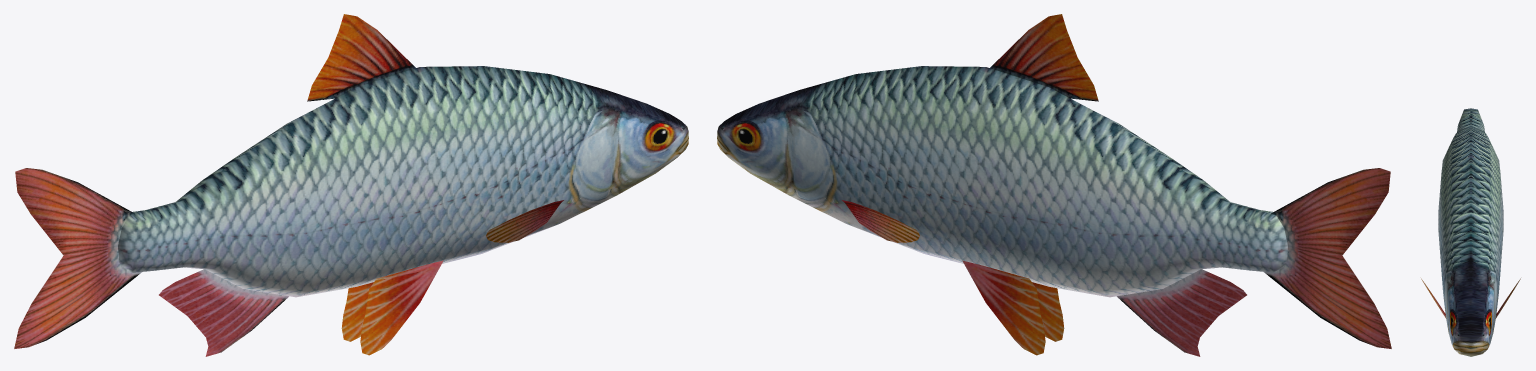
The model's file is Roach.glb.
3 views of the same model, side by side, from view 1: azimuth 30°, elevation 25°; view 2: azimuth 150°, elevation 25°; view 3: azimuth 270°, elevation 25° (orthographic). The views are drawn at different scales.
Visible parts, largest first — view 1: Roach; view 2: Roach; view 3: Roach.
Part boxes in pixels (box(x1,y1,x2,y2)): Roach: box(14, 14, 688, 356); Roach: box(717, 14, 1391, 356); Roach: box(1421, 108, 1520, 356).
Bounding box in the file's own units: 2 × 0.9607 × 0.3512.
Materials: 1 (1 with a texture image).
